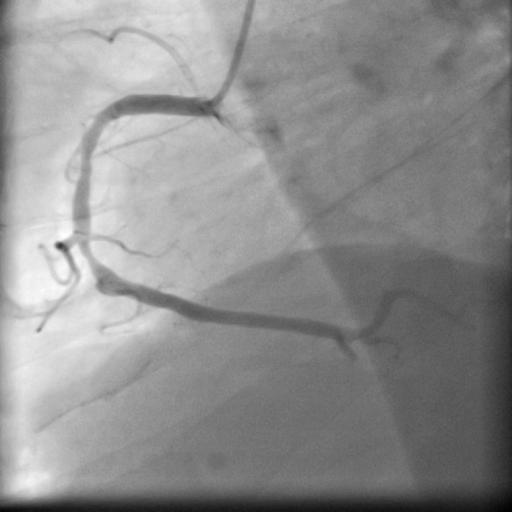Stenosis: (75, 231, 108, 285)
